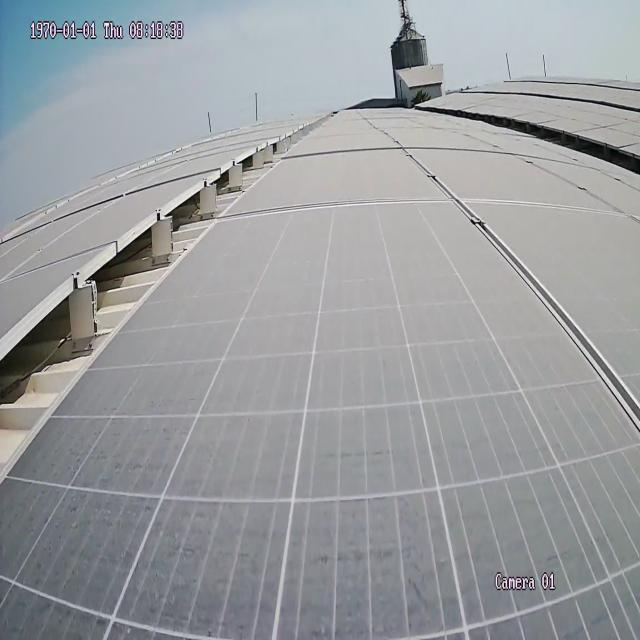interior panel: (387, 128, 633, 431)
outher panel: (2, 127, 314, 479), (452, 109, 636, 180)
